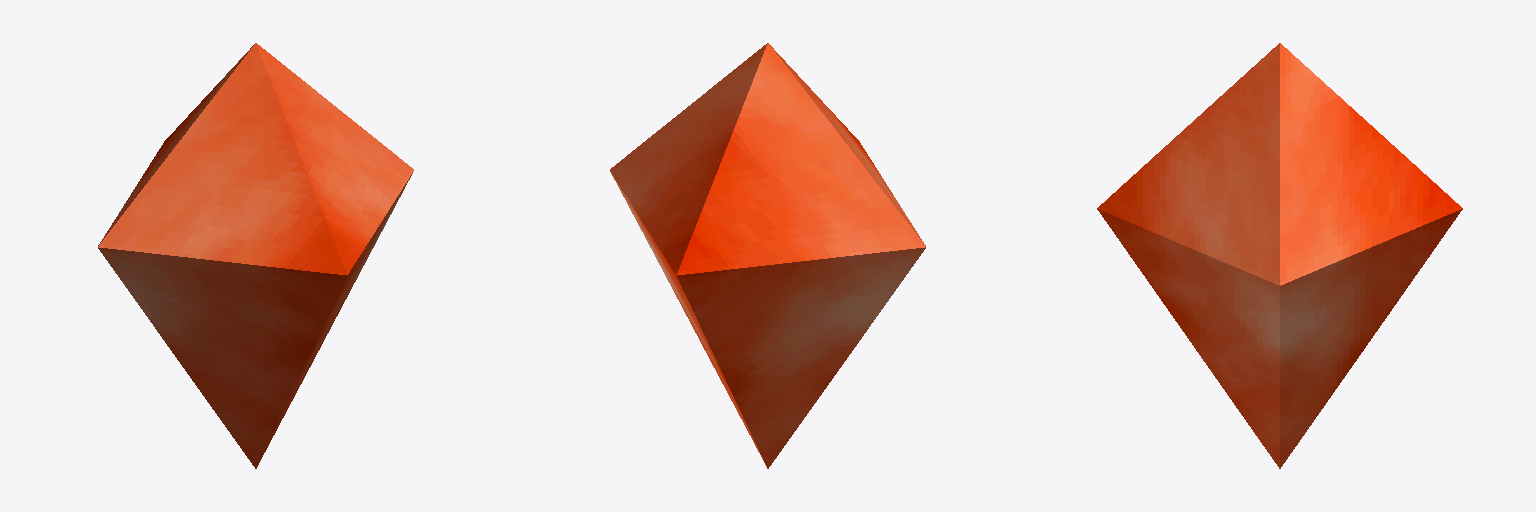
3 views of the same model, side by side, from view 1: azimuth 30°, elevation 25°; view 2: azimuth 150°, elevation 25°; view 3: azimuth 270°, elevation 25° (orthographic).
Visible parts, largest first — view 1: crystal_o; view 2: crystal_o; view 3: crystal_o.
Part boxes in pixels (left/top/right/bottom): crystal_o: left=98, top=43, right=413, bottom=468; crystal_o: left=610, top=43, right=925, bottom=468; crystal_o: left=1097, top=43, right=1462, bottom=468.
Size of the model in its own units: 7 by 9 by 7.
Materials: 1 (1 with a texture image).